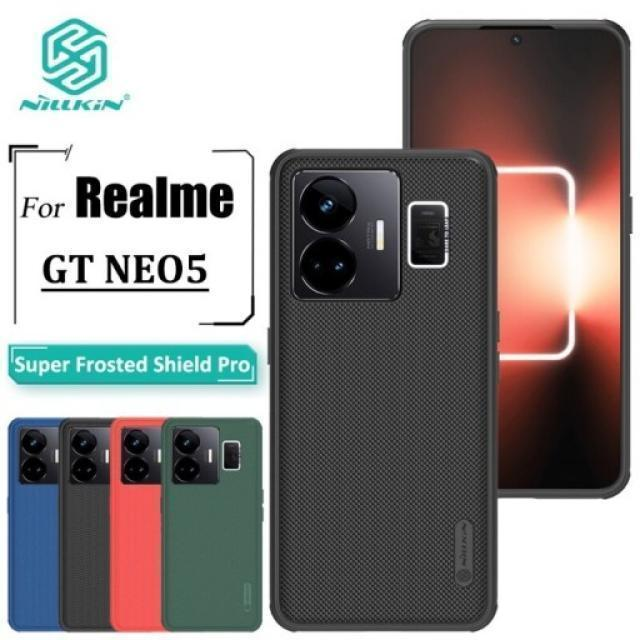lens: (293, 169, 399, 301), (168, 428, 220, 485), (69, 430, 108, 484), (18, 428, 56, 481), (122, 428, 159, 482)
phone: (268, 138, 507, 633), (160, 415, 265, 634)
